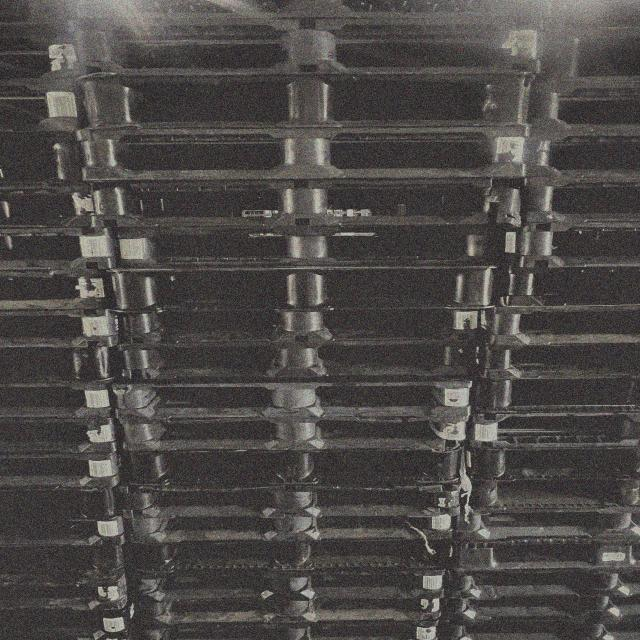igps: (56, 2, 553, 82), (67, 117, 539, 187), (68, 67, 544, 130), (102, 171, 532, 236), (105, 217, 527, 279), (101, 258, 503, 321), (99, 300, 502, 356), (108, 402, 480, 462), (122, 442, 483, 502), (103, 341, 495, 390), (102, 375, 481, 424), (126, 532, 464, 582), (114, 504, 470, 548), (114, 485, 478, 527), (123, 562, 458, 606), (121, 590, 451, 630), (457, 489, 640, 550), (440, 526, 640, 580), (126, 607, 452, 640), (461, 363, 640, 423), (459, 468, 640, 526), (468, 434, 640, 495), (483, 252, 640, 318), (523, 9, 640, 97), (476, 297, 640, 354), (459, 402, 640, 453), (442, 556, 640, 602), (0, 478, 130, 548), (506, 118, 640, 185), (444, 583, 640, 626), (464, 334, 640, 381), (0, 530, 137, 590), (502, 213, 640, 272), (513, 168, 640, 232), (523, 74, 640, 141), (427, 606, 640, 640), (0, 224, 124, 276), (0, 125, 94, 191), (0, 262, 123, 312), (0, 570, 145, 612), (0, 74, 96, 135), (0, 599, 142, 640), (0, 411, 123, 458), (0, 185, 114, 234), (0, 341, 124, 386), (0, 23, 92, 83), (0, 303, 127, 346), (0, 446, 127, 486), (0, 384, 119, 418)
